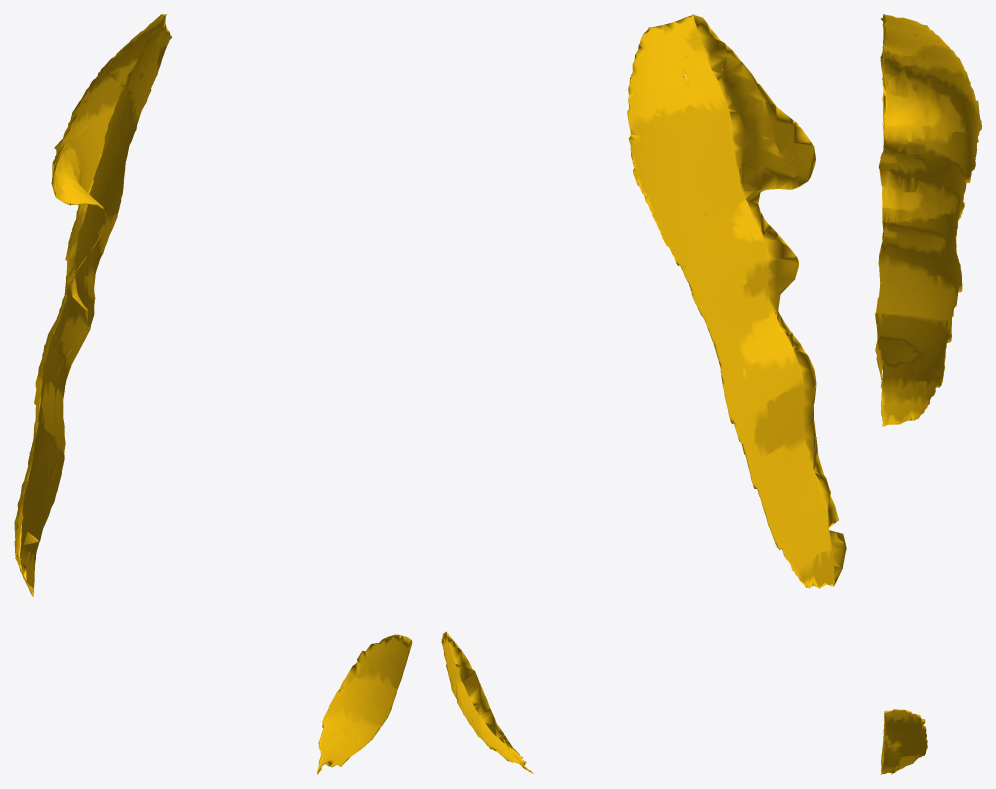
3 renders of one model, left to right at view 1: azimuth 30°, elevation 25°; view 2: azimuth 150°, elevation 25°; view 3: azimuth 270°, elevation 25°, orthographic. The views are drawn at different scales.
Parts seen in each view (by area): view 1: Switch_Switch_osgPicked_gmeGeoEntityGeode_Geometry_0, Switch_Switch_osgPicked_gmeGeoEntityGeode_Geometry_Geometry_; view 2: Switch_Switch_osgPicked_gmeGeoEntityGeode_Geometry_0, Switch_Switch_osgPicked_gmeGeoEntityGeode_Geometry_Geometry_; view 3: Switch_Switch_osgPicked_gmeGeoEntityGeode_Geometry_0, Switch_Switch_osgPicked_gmeGeoEntityGeode_Geometry_Geometry_.
Part boxes in pixels (x1=…): Switch_Switch_osgPicked_gmeGeoEntityGeode_Geometry_0: x1=14, y1=14, x2=171, y2=596; Switch_Switch_osgPicked_gmeGeoEntityGeode_Geometry_Geometry_: x1=317, y1=634, x2=412, y2=774; Switch_Switch_osgPicked_gmeGeoEntityGeode_Geometry_0: x1=627, y1=14, x2=846, y2=588; Switch_Switch_osgPicked_gmeGeoEntityGeode_Geometry_Geometry_: x1=441, y1=631, x2=533, y2=773; Switch_Switch_osgPicked_gmeGeoEntityGeode_Geometry_0: x1=875, y1=14, x2=981, y2=426; Switch_Switch_osgPicked_gmeGeoEntityGeode_Geometry_Geometry_: x1=880, y1=709, x2=927, y2=774.
Bounding box in the file's own units: 12097 × 22973 × 3215.
